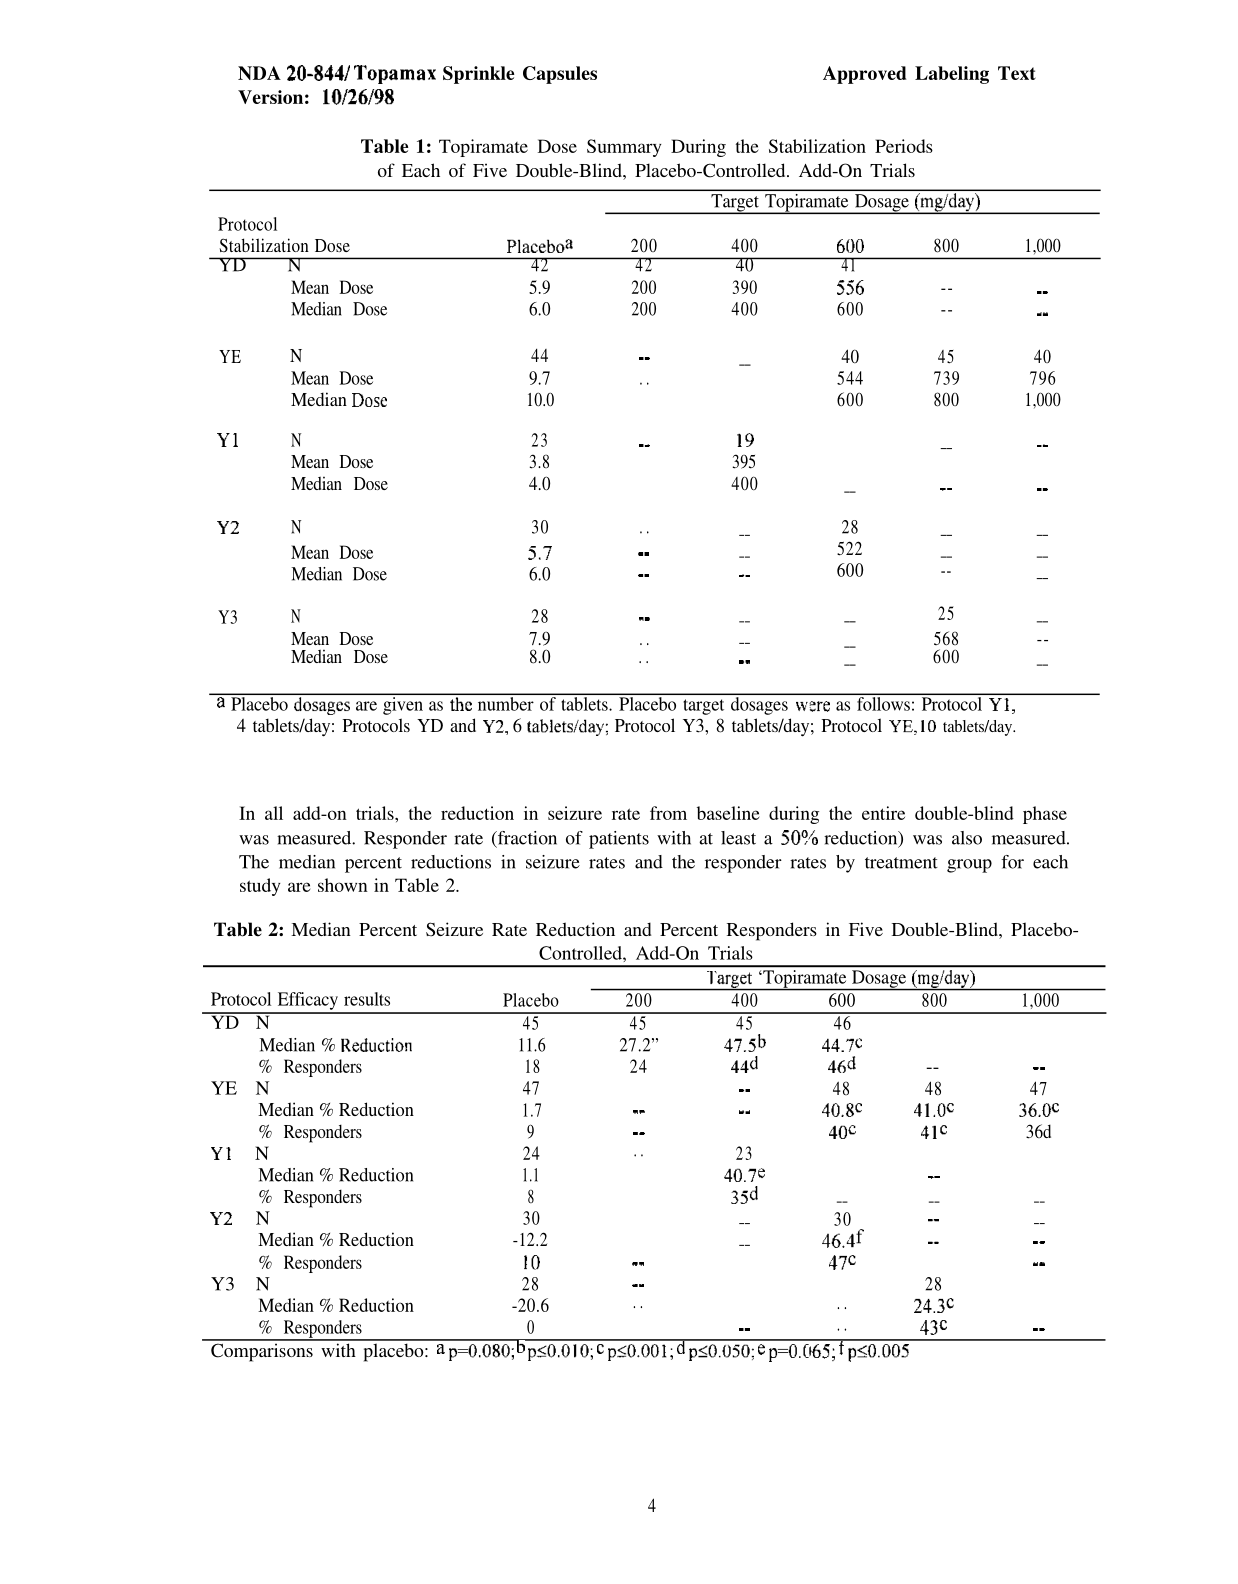partial_lined_merged_cells: (210, 186, 1102, 696), (201, 963, 1107, 1342)
